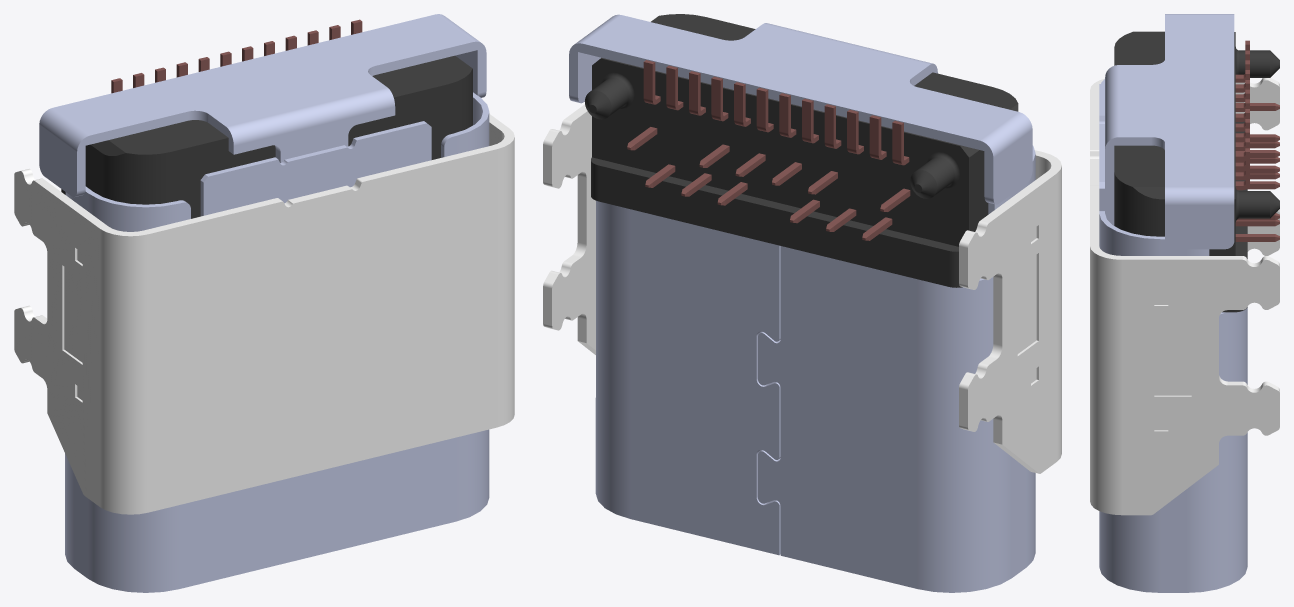
3 renders of one model, left to right at view 1: azimuth 30°, elevation 25°; view 2: azimuth 150°, elevation 25°; view 3: azimuth 270°, elevation 25°, orthographic. The views are drawn at different scales.
Bounding box in the file's own units: 9.4 × 9.76 × 4.11.
